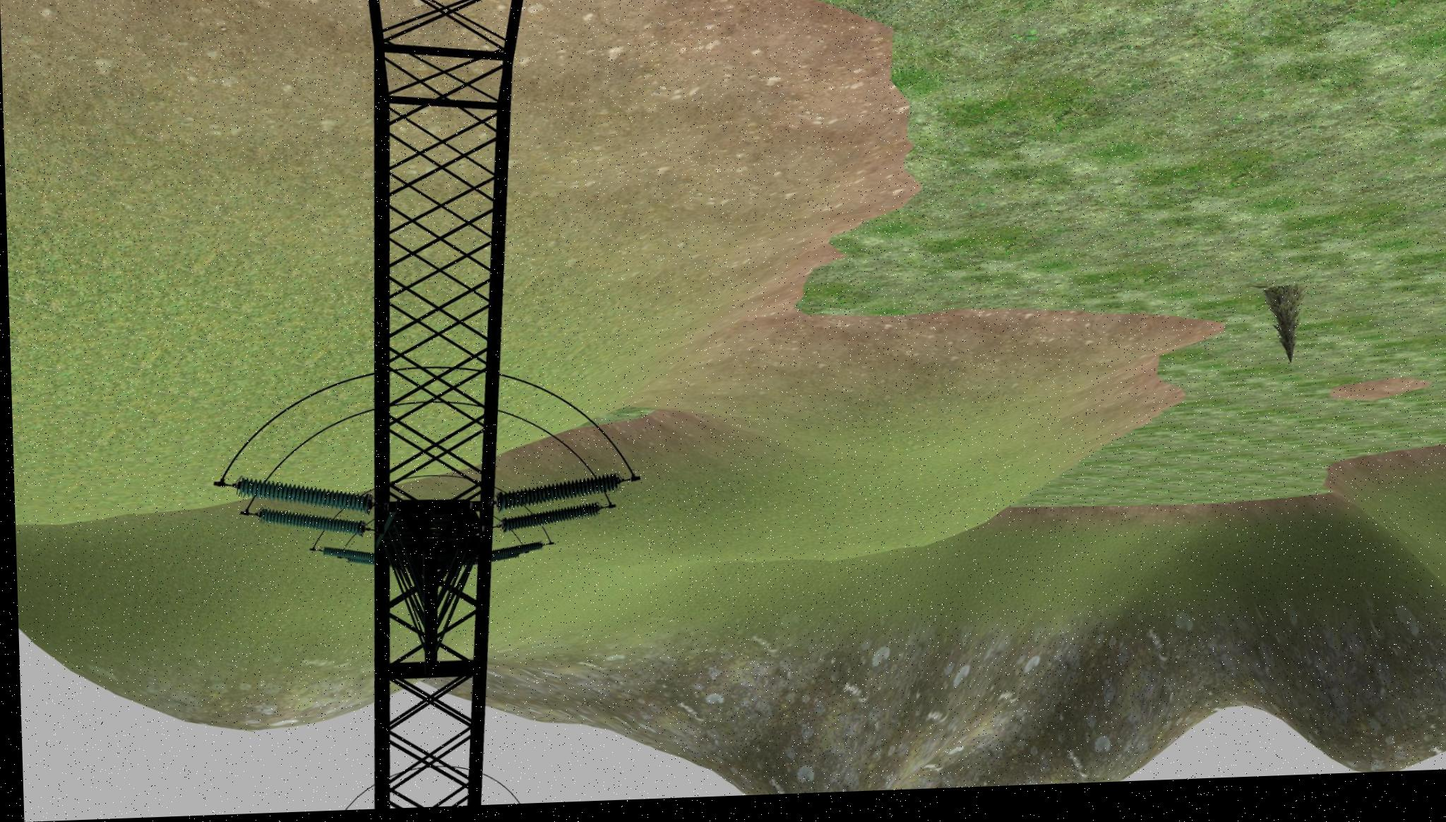tower: (330, 0, 552, 808)
